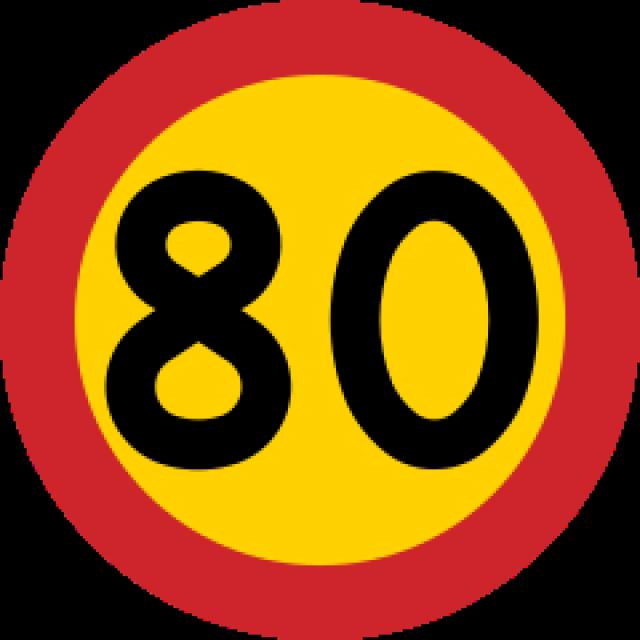Speed Limit -80-: (107, 170, 540, 471)
